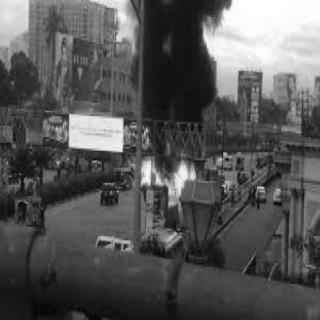Smoke: (115, 0, 232, 152)
